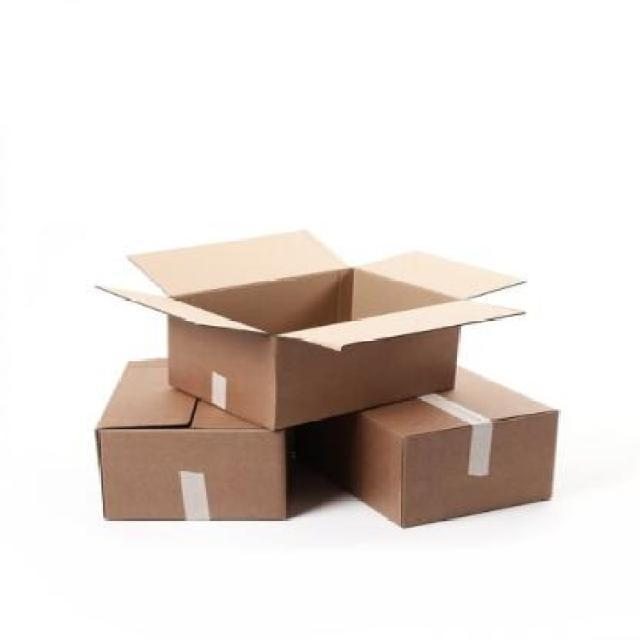BoxFace: (398, 408, 558, 530), (97, 425, 286, 521)
